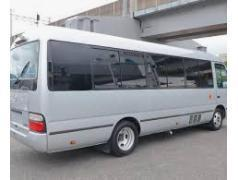bus: (12, 21, 227, 161)
